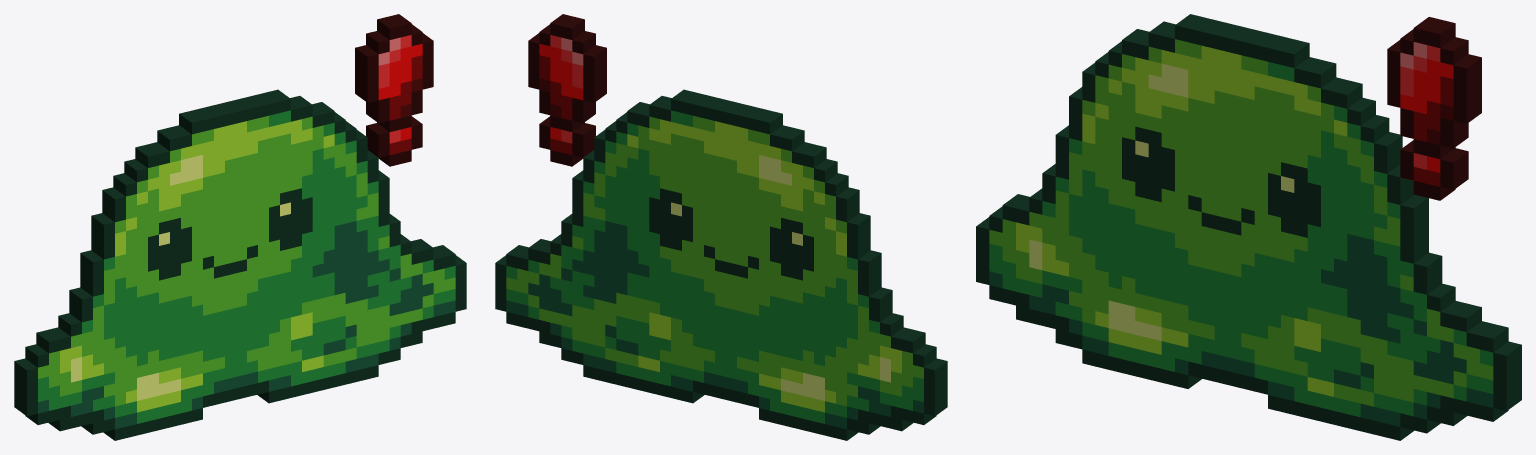
Rendered from Slime_Detected.obj.
The picture shows the model from 3 angles, left to right: view 1: azimuth 30°, elevation 25°; view 2: azimuth 150°, elevation 25°; view 3: azimuth 330°, elevation 25°; orthographic projection. The views are drawn at different scales.
Size of the model in its own units: 4 by 3 by 0.2.
Materials: 1 (1 with a texture image).
